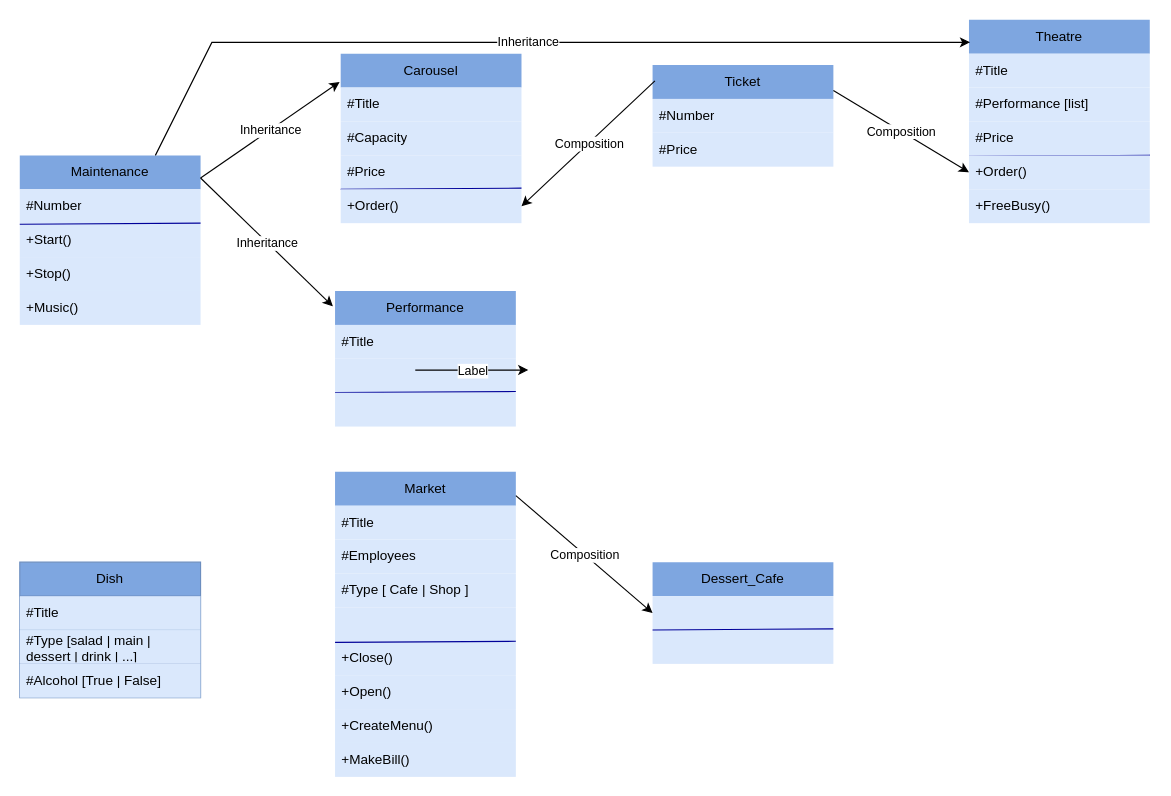
Image size: 1171x796. Some labels were removed from this diagram. Each missing label, with the centre of its shape:
"#Cafe" goes at [742,612].
"#Menu [Products]" goes at [424,624].
"#Type [interactive | visual]" goes at [424,375].
"+Period()" goes at [424,409].
"+UnicDess()" goes at [742,646].
